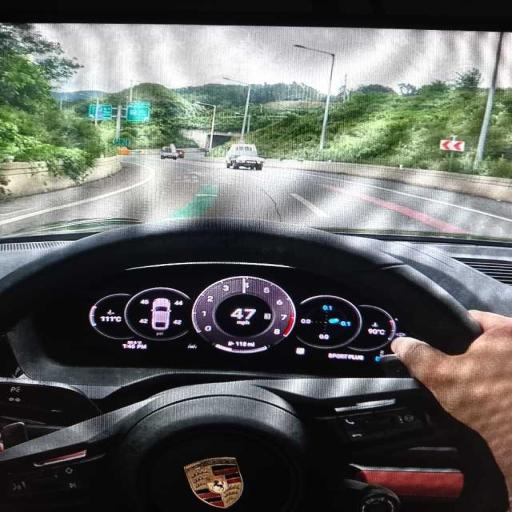car: (226, 143, 264, 169), (152, 298, 170, 330), (160, 144, 179, 160), (177, 149, 184, 158)
lane: (0, 153, 511, 237), (0, 157, 201, 235)
person: (392, 311, 511, 501)
